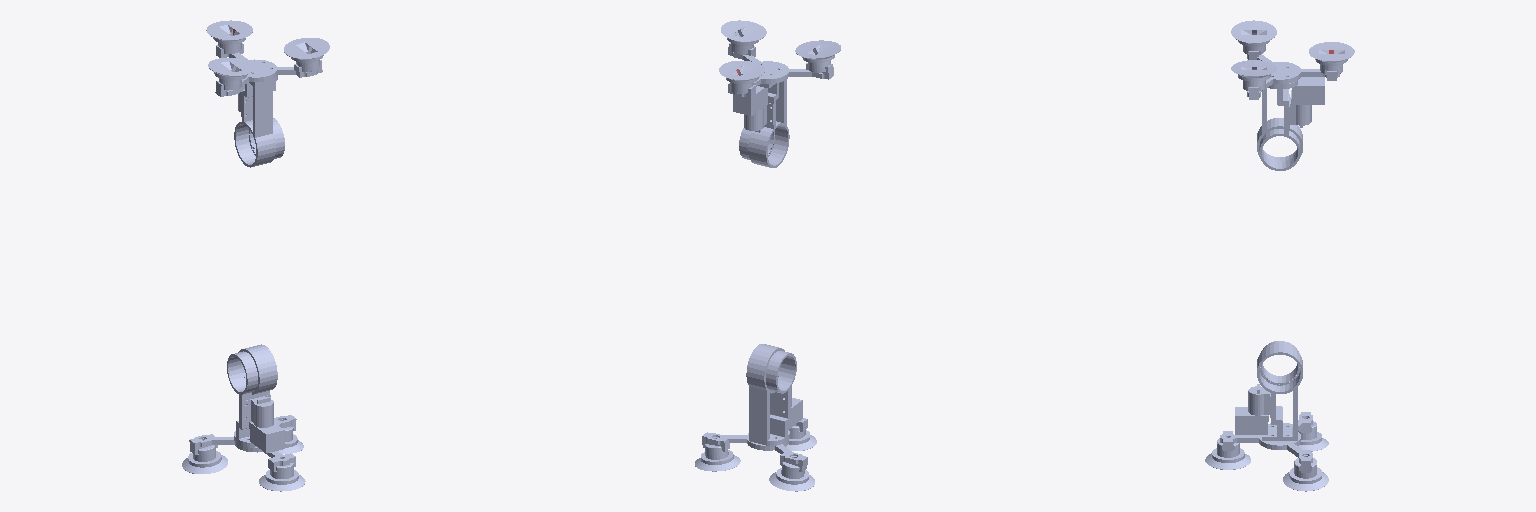
The robot description file, URDF, robot "bigmama0329":
<?xml version="1.0" encoding="utf-8"?>
<!-- This URDF was automatically created by SolidWorks to URDF Exporter! Originally created by [author] ([email redacted]) 
     Commit Version: 1.6.0-1-g15f4949  Build Version: 1.6.7594.29634
     For more information, please see http://wiki.ros.org/sw_urdf_exporter -->
<robot
  name="bigmama0329">
  <link
    name="Link_0">
    <inertial>
      <origin
        xyz="-0.0037026 -0.0090873 0.031054"
        rpy="0 0 0" />
      <mass
        value="0.78861" />
      <inertia
        ixx="0.0014951"
        ixy="-1.2947E-05"
        ixz="1.4235E-05"
        iyy="0.0014418"
        iyz="-7.3423E-06"
        izz="0.0010263" />
    </inertial>
    <visual>
      <origin
        xyz="0 0 0"
        rpy="0 0 0" />
      <geometry>
        <mesh
          filename="package://bigmama0329/meshes/Link_0.STL" />
      </geometry>
      <material
        name="">
        <color
          rgba="0.79216 0.81961 0.93333 1" />
      </material>
    </visual>
    <collision>
      <origin
        xyz="0 0 0"
        rpy="0 0 0" />
      <geometry>
        <mesh
          filename="package://bigmama0329/meshes/Link_0.STL" />
      </geometry>
    </collision>
  </link>
  <link
    name="Link_1">
    <inertial>
      <origin
        xyz="3.3307E-16 0.12 0.014813"
        rpy="0 0 0" />
      <mass
        value="0.28238" />
      <inertia
        ixx="0.0027445"
        ixy="2.8199E-20"
        ixz="-6.625E-21"
        iyy="0.00019508"
        iyz="1.6811E-20"
        izz="0.0029159" />
    </inertial>
    <visual>
      <origin
        xyz="0 0 0"
        rpy="0 0 0" />
      <geometry>
        <mesh
          filename="package://bigmama0329/meshes/Link_1.STL" />
      </geometry>
      <material
        name="">
        <color
          rgba="0.79216 0.81961 0.93333 1" />
      </material>
    </visual>
    <collision>
      <origin
        xyz="0 0 0"
        rpy="0 0 0" />
      <geometry>
        <mesh
          filename="package://bigmama0329/meshes/Link_1.STL" />
      </geometry>
    </collision>
  </link>
  <joint
    name="Joint_1"
    type="revolute">
    <origin
      xyz="0.022 0 0.155"
      rpy="1.5708 0 1.5708" />
    <parent
      link="Link_0" />
    <child
      link="Link_1" />
    <axis
      xyz="0 0 -1" />
    <limit
      lower="-3.14"
      upper="3.14"
      effort="100"
      velocity="0.25" />
  </joint>
  <link
    name="Link_2">
    <inertial>
      <origin
        xyz="5.5511E-15 0.098184 -0.051898"
        rpy="0 0 0" />
      <mass
        value="0.34516" />
      <inertia
        ixx="0.0036332"
        ixy="3.2534E-18"
        ixz="-4.5177E-19"
        iyy="0.00034405"
        iyz="0.00024115"
        izz="0.0037914" />
    </inertial>
    <visual>
      <origin
        xyz="0 0 0"
        rpy="0 0 0" />
      <geometry>
        <mesh
          filename="package://bigmama0329/meshes/Link_2.STL" />
      </geometry>
      <material
        name="">
        <color
          rgba="0.79216 0.81961 0.93333 1" />
      </material>
    </visual>
    <collision>
      <origin
        xyz="0 0 0"
        rpy="0 0 0" />
      <geometry>
        <mesh
          filename="package://bigmama0329/meshes/Link_2.STL" />
      </geometry>
    </collision>
  </link>
  <joint
    name="Joint_2"
    type="revolute">
    <origin
      xyz="0 0.24 0"
      rpy="0 0 0" />
    <parent
      link="Link_1" />
    <child
      link="Link_2" />
    <axis
      xyz="0 0 -1" />
    <limit
      lower="-3.14"
      upper="3.14"
      effort="100"
      velocity="0.25" />
  </joint>
  <link
    name="Link_3">
    <inertial>
      <origin
        xyz="0.018256 0.077688 0.029219"
        rpy="0 0 0" />
      <mass
        value="0.40524" />
      <inertia
        ixx="0.0010067"
        ixy="-1.0212E-05"
        ixz="-1.2958E-05"
        iyy="0.00027741"
        iyz="1.4235E-05"
        izz="0.0011025" />
    </inertial>
    <visual>
      <origin
        xyz="0 0 0"
        rpy="0 0 0" />
      <geometry>
        <mesh
          filename="package://bigmama0329/meshes/Link_3.STL" />
      </geometry>
      <material
        name="">
        <color
          rgba="0.79216 0.81961 0.93333 1" />
      </material>
    </visual>
    <collision>
      <origin
        xyz="0 0 0"
        rpy="0 0 0" />
      <geometry>
        <mesh
          filename="package://bigmama0329/meshes/Link_3.STL" />
      </geometry>
    </collision>
  </link>
  <joint
    name="Joint_3"
    type="revolute">
    <origin
      xyz="0 0.24 -0.0442"
      rpy="0 0 0" />
    <parent
      link="Link_2" />
    <child
      link="Link_3" />
    <axis
      xyz="0 0 1" />
    <limit
      lower="-3.14"
      upper="3.14"
      effort="100"
      velocity="0.25" />
  </joint>
  <link
    name="Link_4">
    <inertial>
      <origin
        xyz="-0.00060436 -1.6218E-05 -0.027877"
        rpy="0 0 0" />
      <mass
        value="0.38329" />
      <inertia
        ixx="0.00043476"
        ixy="1.3289E-08"
        ixz="-2.8556E-06"
        iyy="0.00039221"
        iyz="7.1388E-09"
        izz="0.00074883" />
    </inertial>
    <visual>
      <origin
        xyz="0 0 0"
        rpy="0 0 0" />
      <geometry>
        <mesh
          filename="package://bigmama0329/meshes/Link_4.STL" />
      </geometry>
      <material
        name="">
        <color
          rgba="0.79216 0.81961 0.93333 1" />
      </material>
    </visual>
    <collision>
      <origin
        xyz="0 0 0"
        rpy="0 0 0" />
      <geometry>
        <mesh
          filename="package://bigmama0329/meshes/Link_4.STL" />
      </geometry>
    </collision>
  </link>
  <joint
    name="Joint_4"
    type="revolute">
    <origin
      xyz="0 0.145 0.022"
      rpy="1.5708 0 0" />
    <parent
      link="Link_3" />
    <child
      link="Link_4" />
    <axis
      xyz="0 0 -1" />
    <limit
      lower="-1E-05"
      upper="1E-05"
      effort="1E-05"
      velocity="1E-05" />
  </joint>
  <link
    name="Link_innerfinger">
    <inertial>
      <origin
        xyz="-0.0024188 -4.774E-15 -0.0074919"
        rpy="0 0 0" />
      <mass
        value="0.00082422" />
      <inertia
        ixx="2.7022E-08"
        ixy="3.9915E-23"
        ixz="2.4088E-09"
        iyy="2.2272E-08"
        iyz="-8.2407E-24"
        izz="8.8267E-09" />
    </inertial>
    <visual>
      <origin
        xyz="0 0 0"
        rpy="0 0 0" />
      <geometry>
        <mesh
          filename="package://bigmama0329/meshes/Link_innerfinger.STL" />
      </geometry>
      <material
        name="">
        <color
          rgba="1 0.50196 0.50196 1" />
      </material>
    </visual>
    <collision>
      <origin
        xyz="0 0 0"
        rpy="0 0 0" />
      <geometry>
        <mesh
          filename="package://bigmama0329/meshes/Link_innerfinger.STL" />
      </geometry>
    </collision>
  </link>
  <joint
    name="Joint_innerfinger"
    type="prismatic">
    <origin
      xyz="0.1 -0.01 -0.03"
      rpy="0 0 1.5708" />
    <parent
      link="Link_4" />
    <child
      link="Link_innerfinger" />
    <axis
      xyz="-1 0 0" />
    <limit
      lower="-0.01"
      upper="0.01"
      effort="500"
      velocity="0.001" />
  </joint>
  <link
    name="Link_exterfinger">
    <inertial>
      <origin
        xyz="-0.0024188 -3.3307E-16 -0.0074919"
        rpy="0 0 0" />
      <mass
        value="0.00082422" />
      <inertia
        ixx="2.7022E-08"
        ixy="7.5966E-24"
        ixz="2.4088E-09"
        iyy="2.2272E-08"
        iyz="3.6913E-23"
        izz="8.8267E-09" />
    </inertial>
    <visual>
      <origin
        xyz="0 0 0"
        rpy="0 0 0" />
      <geometry>
        <mesh
          filename="package://bigmama0329/meshes/Link_exterfinger.STL" />
      </geometry>
      <material
        name="">
        <color
          rgba="1 0.50196 0.50196 1" />
      </material>
    </visual>
    <collision>
      <origin
        xyz="0 0 0"
        rpy="0 0 0" />
      <geometry>
        <mesh
          filename="package://bigmama0329/meshes/Link_exterfinger.STL" />
      </geometry>
    </collision>
  </link>
  <joint
    name="Joint_exterfinger"
    type="prismatic">
    <origin
      xyz="0.1 0.01 -0.03"
      rpy="0 0 -1.5708" />
    <parent
      link="Link_4" />
    <child
      link="Link_exterfinger" />
    <axis
      xyz="1 0 0" />
    <limit
      lower="-0.01"
      upper="0.01"
      effort="500"
      velocity="0.001" />
  </joint>
</robot>

--- What the picture shows (computed from the rendered views, not written in the file) ---
3 views of the same robot in one strip: view 1: azimuth 30°, elevation 25°; view 2: azimuth 150°, elevation 25°; view 3: azimuth 270°, elevation 25° (orthographic).
Model bigmama0329 with 7 links and 6 joints (4 revolute, 2 prismatic), rooted at Link_0, posed all joints at 0.
Visible links, largest first — view 1: Link_0, Link_4, Link_3; view 2: Link_0, Link_4, Link_3; view 3: Link_0, Link_4, Link_3.
Boxes of the visible links, box(x1,y1,x2,y2) form: Link_0: box(182, 344, 305, 491); Link_4: box(206, 20, 329, 96); Link_3: box(234, 75, 284, 167); Link_0: box(695, 344, 816, 491); Link_4: box(719, 20, 840, 98); Link_3: box(733, 80, 789, 167); Link_0: box(1205, 341, 1328, 491); Link_4: box(1231, 20, 1354, 99); Link_3: box(1257, 77, 1324, 170).
Bounding box of the posed robot: 0.2553 × 0.289 × 0.8854 m (x, y, z).
Meshes: 7 distinct files referenced, 5 mesh visuals loaded (5 binary STL); not drawn: 2 (reference not matched to a file when rendering).
